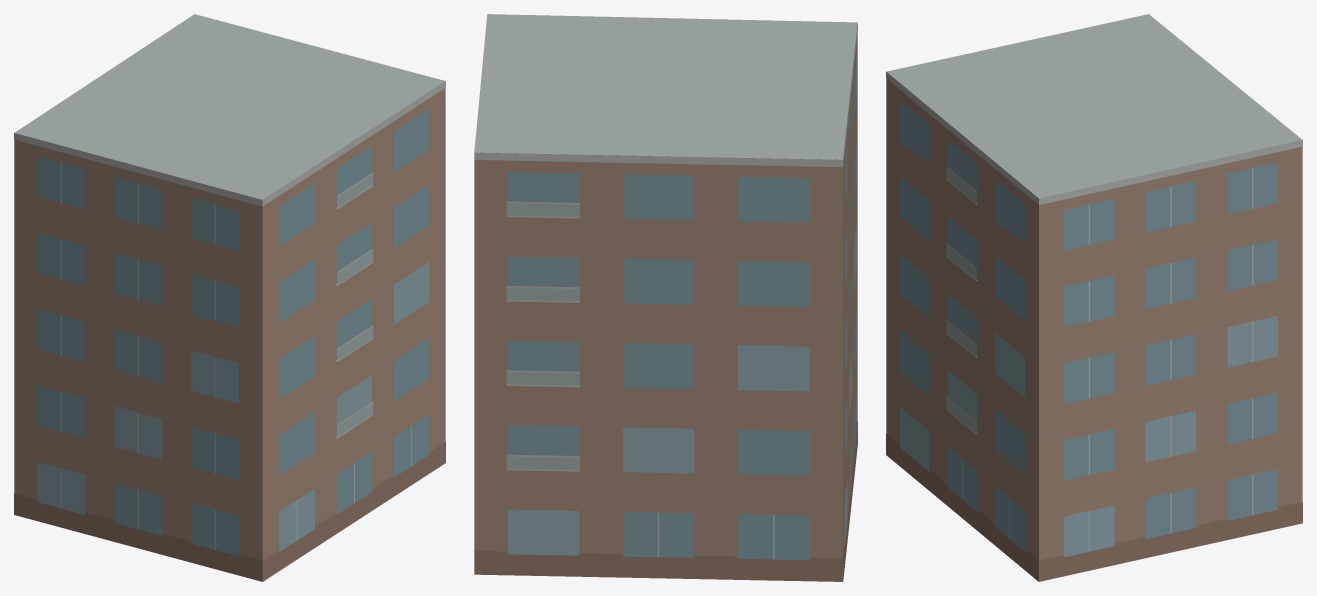
The model's file is survey-upis-32839767.glb.
3 renders of one model, left to right at view 1: azimuth 30°, elevation 25°; view 2: azimuth 150°, elevation 25°; view 3: azimuth 270°, elevation 25°, orthographic. The views are drawn at different scales.
Parts seen in each view (by area): view 1: survey-upis-32839767.tmp; view 2: survey-upis-32839767.tmp; view 3: survey-upis-32839767.tmp.
Boxes of the visible parts, <box> form: survey-upis-32839767.tmp: <box>14,14,445,581</box>; survey-upis-32839767.tmp: <box>474,14,857,581</box>; survey-upis-32839767.tmp: <box>886,14,1302,581</box>.
Size of the model in its own units: 14.46 by 14 by 13.8.
